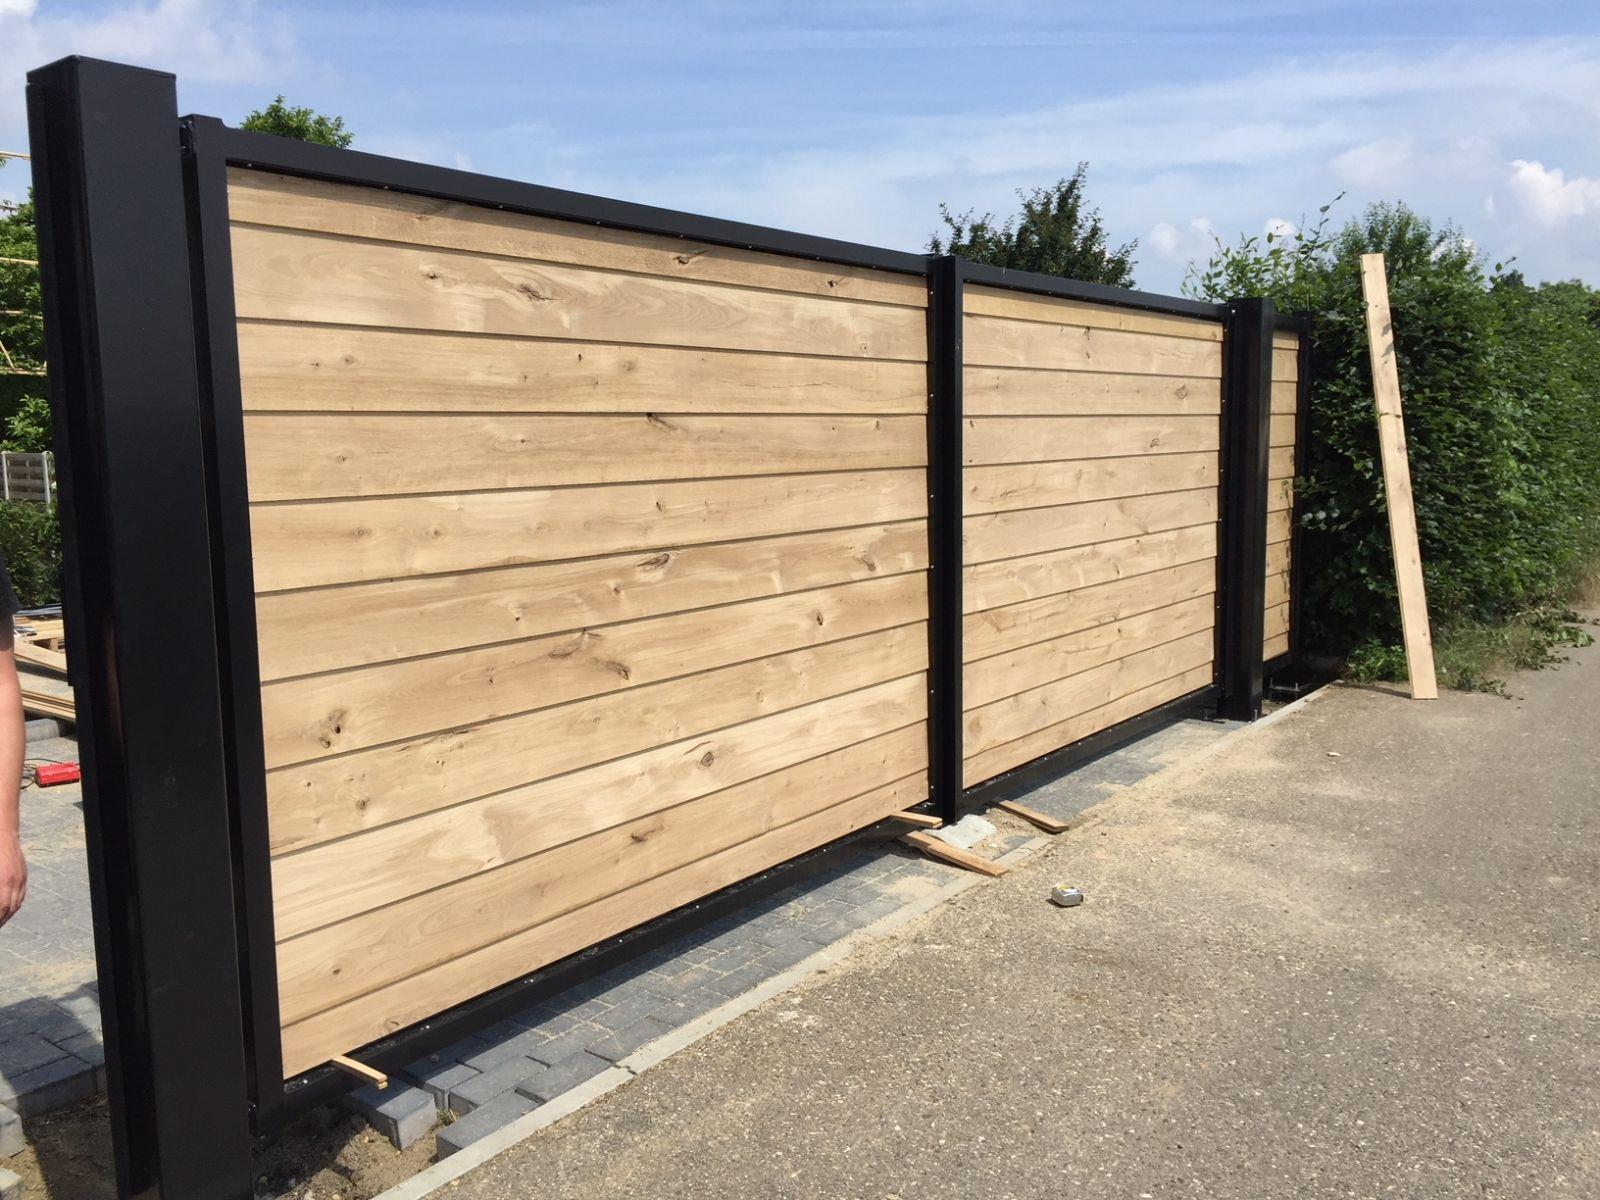obstacle: (0, 412, 1600, 1037)
